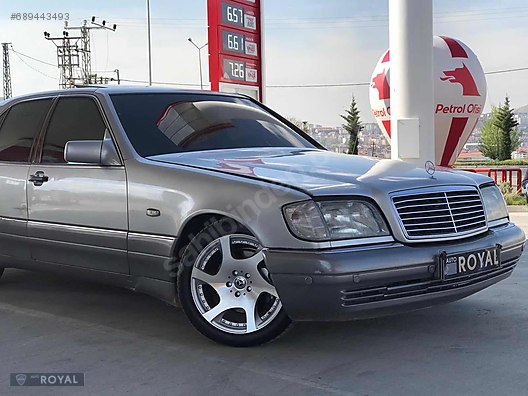mercedes: (1, 45, 527, 352)
